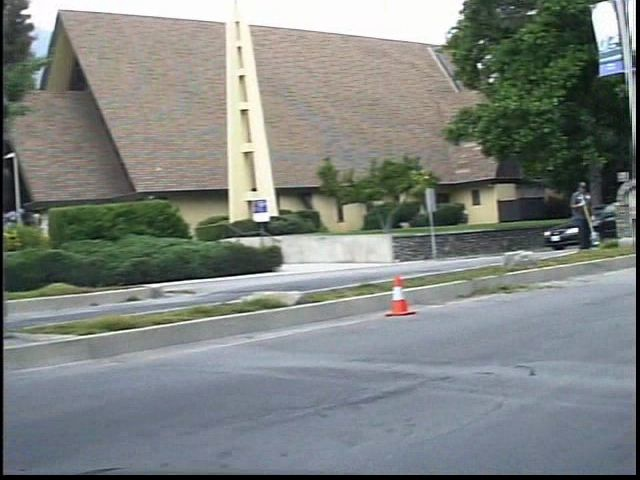person: (577, 175, 610, 256)
